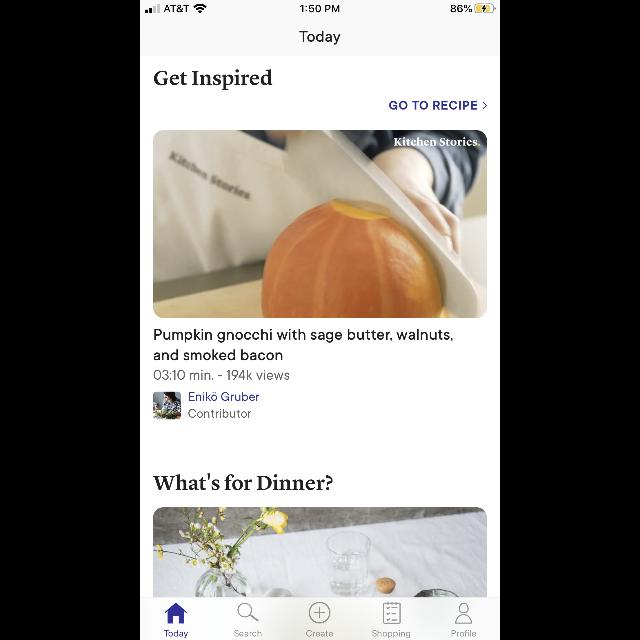icon: (309, 602, 331, 624), (165, 603, 187, 623), (454, 602, 472, 624), (384, 602, 401, 624), (238, 603, 258, 621), (483, 102, 487, 110)
image: (154, 130, 486, 318), (154, 508, 486, 596), (154, 392, 180, 420)
text: (154, 329, 452, 361), (153, 474, 333, 491), (154, 70, 272, 90), (154, 370, 290, 380), (389, 100, 477, 110), (189, 392, 259, 402), (394, 138, 480, 146), (188, 408, 252, 418), (300, 31, 340, 45), (372, 630, 410, 638), (164, 630, 188, 638), (234, 630, 262, 636), (306, 630, 334, 636), (452, 630, 476, 636)
uppertaskbar: (140, 0, 500, 14)
